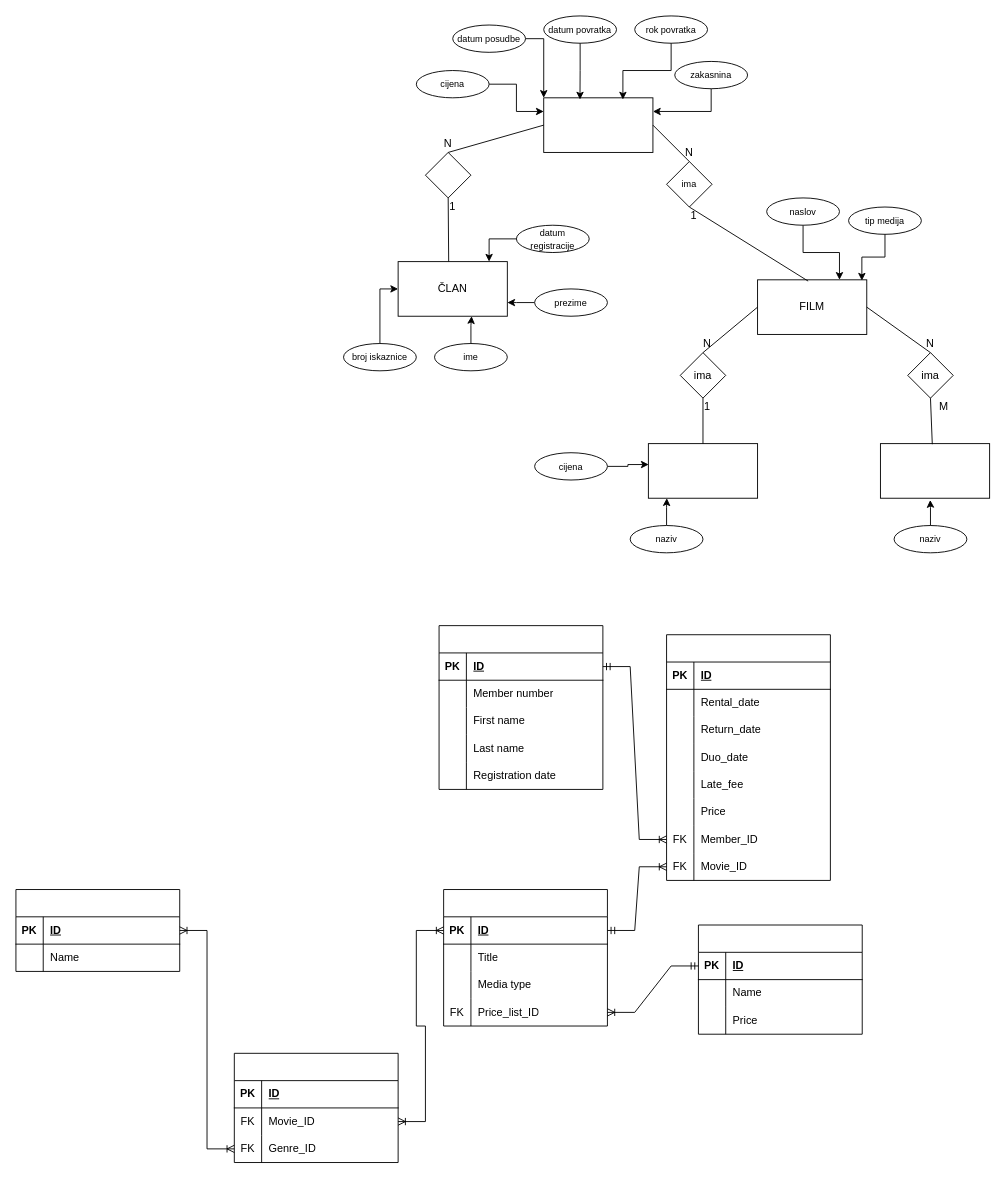
Some shapes in this 1006 by 1178 pixel diagram are drawn without their labels. Here are the shapes that lost their labels. From the top down, the box of each, then its label:
(543, 97, 653, 152): POSUDBA
(425, 152, 471, 198): posuđuje
(647, 443, 758, 498): CJENIK
(880, 443, 990, 498): ŽANR
(438, 625, 603, 789): MEMBERS
(666, 634, 830, 880): RENTALS
(15, 889, 180, 971): GENRES
(443, 889, 607, 1026): MOVIES
(698, 924, 862, 1034): PRICE_LISTS
(233, 1052, 398, 1163): MOVIE_GENRES
